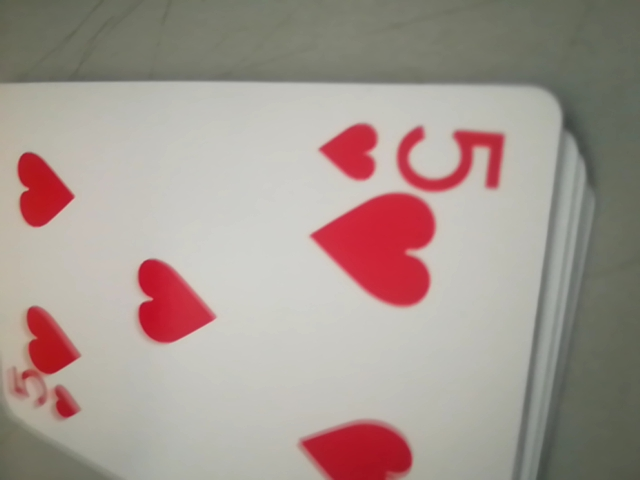hx 5: (316, 109, 511, 196)
